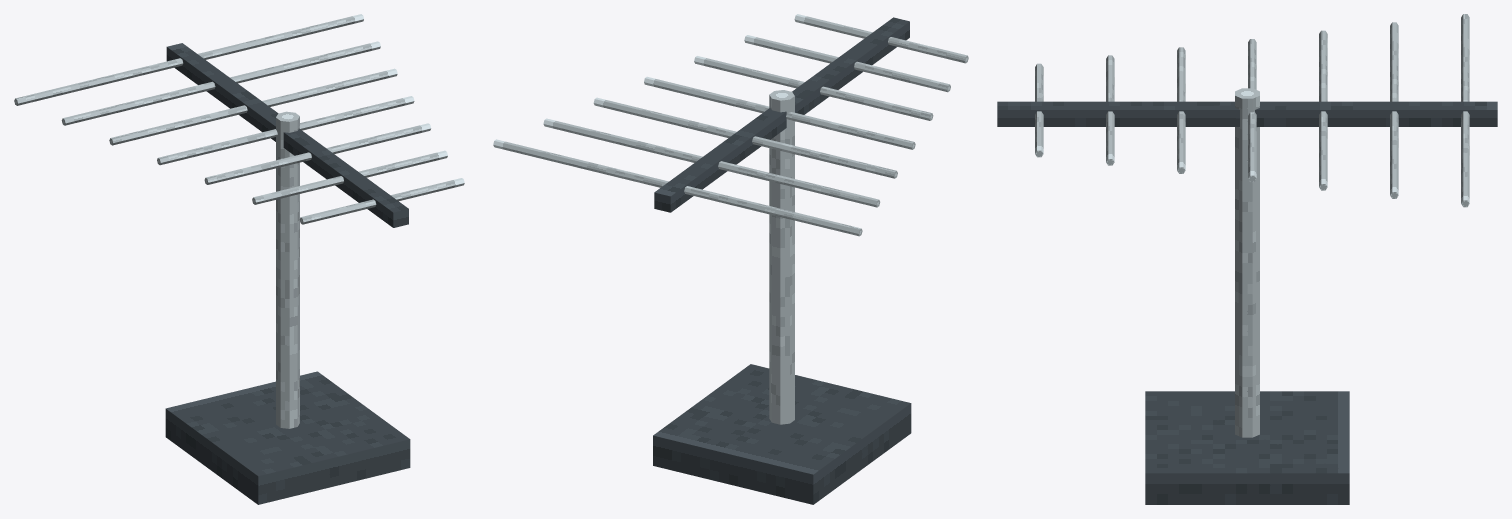
Rendered from f_TV_antenna.glb.
3 renders of one model, left to right at view 1: azimuth 30°, elevation 25°; view 2: azimuth 150°, elevation 25°; view 3: azimuth 270°, elevation 25°, orthographic. The views are drawn at different scales.
Visible parts, largest first — view 1: block_mounting-plate, block_antenna-mast, block_boom, block_cross-element-0, block_cross-element-1, block_cross-element-2, block_cross-element-3, block_cross-element-4, block_cross-element-5, block_cross-element-6; view 2: block_mounting-plate, block_antenna-mast, block_boom, block_cross-element-0, block_cross-element-1, block_cross-element-2, block_cross-element-3, block_cross-element-4, block_cross-element-5, block_cross-element-6; view 3: block_mounting-plate, block_boom, block_antenna-mast, block_cross-element-0, block_cross-element-1, block_cross-element-2, block_cross-element-3, block_cross-element-4, block_cross-element-5, block_cross-element-6.
Boxes of the visible parts, x1=… form: block_mounting-plate: x1=165, y1=371, x2=410, y2=504; block_antenna-mast: x1=276, y1=111, x2=299, y2=428; block_boom: x1=166, y1=43, x2=408, y2=227; block_cross-element-0: x1=14, y1=14, x2=363, y2=105; block_cross-element-1: x1=61, y1=41, x2=380, y2=125; block_cross-element-2: x1=109, y1=68, x2=397, y2=145; block_cross-element-3: x1=157, y1=96, x2=414, y2=165; block_cross-element-4: x1=204, y1=123, x2=431, y2=184; block_cross-element-5: x1=252, y1=150, x2=447, y2=204; block_cross-element-6: x1=299, y1=178, x2=464, y2=224; block_mounting-plate: x1=653, y1=364, x2=911, y2=504; block_antenna-mast: x1=769, y1=90, x2=794, y2=424; block_boom: x1=654, y1=17, x2=909, y2=212; block_cross-element-0: x1=493, y1=139, x2=862, y2=236; block_cross-element-1: x1=543, y1=118, x2=880, y2=207; block_cross-element-2: x1=593, y1=97, x2=897, y2=178; block_cross-element-3: x1=644, y1=76, x2=915, y2=149; block_cross-element-4: x1=694, y1=56, x2=933, y2=120; block_cross-element-5: x1=744, y1=35, x2=950, y2=92; block_cross-element-6: x1=794, y1=14, x2=968, y2=63; block_mounting-plate: x1=1145, y1=391, x2=1349, y2=504; block_boom: x1=997, y1=101, x2=1497, y2=126; block_antenna-mast: x1=1235, y1=88, x2=1259, y2=437; block_cross-element-0: x1=1461, y1=14, x2=1469, y2=207; block_cross-element-1: x1=1390, y1=22, x2=1398, y2=198; block_cross-element-2: x1=1319, y1=30, x2=1327, y2=190; block_cross-element-3: x1=1248, y1=39, x2=1256, y2=182; block_cross-element-4: x1=1177, y1=47, x2=1185, y2=173; block_cross-element-5: x1=1106, y1=55, x2=1114, y2=165; block_cross-element-6: x1=1035, y1=63, x2=1043, y2=157.
Size of the model in its own units: 0.82 by 0.76 by 0.93.
Materials: 1 (1 with a texture image).
